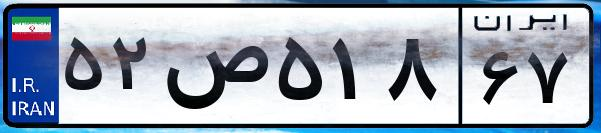1: (330, 28, 385, 110)
2: (110, 28, 158, 98)
5: (270, 28, 330, 110), (57, 26, 110, 100)
6: (475, 38, 525, 113)
7: (525, 38, 570, 115)
8: (385, 28, 445, 110)
ص: (158, 20, 270, 120)
